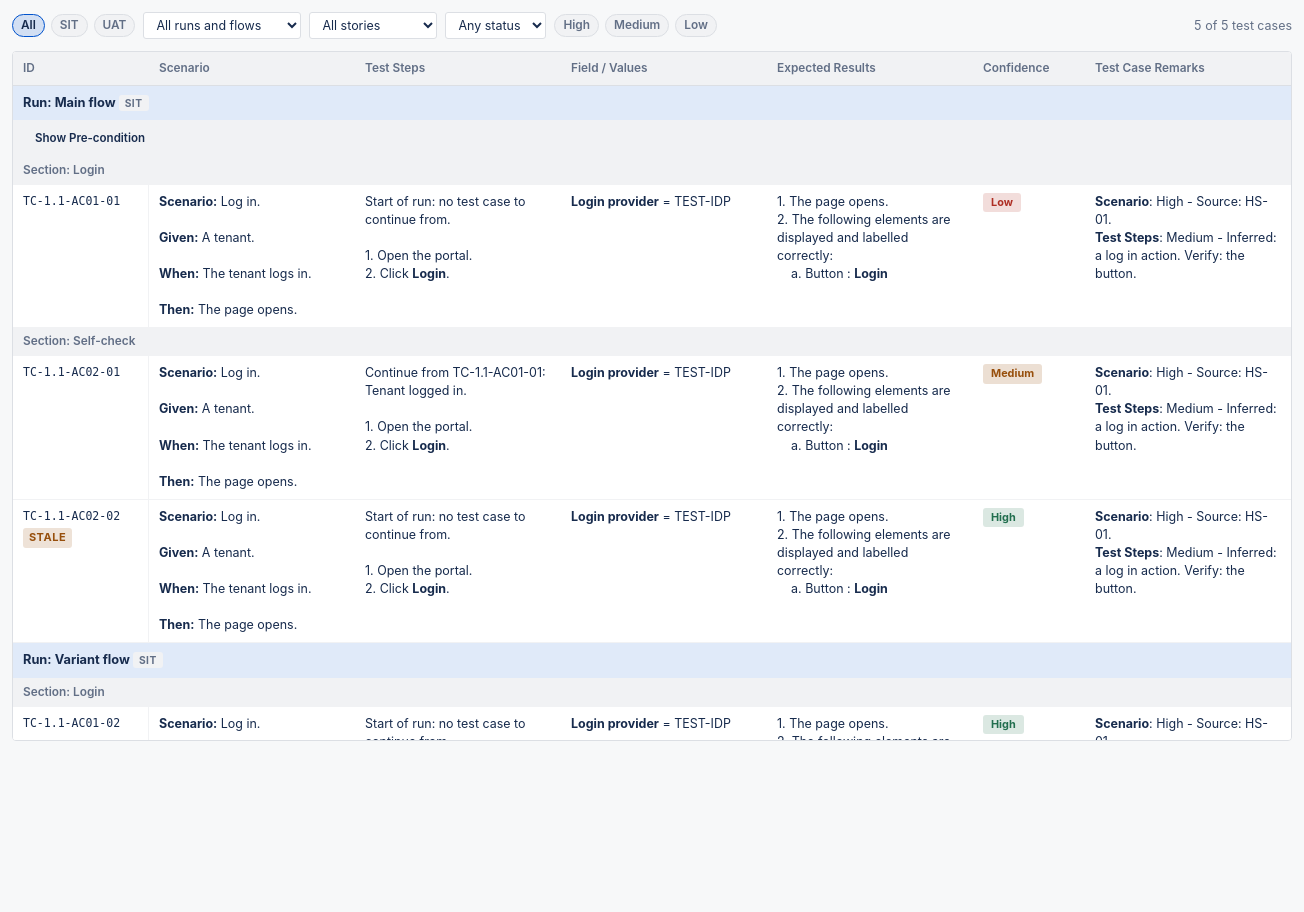
TestCaseGrid supplies the panel link › stays inert when no workbook holds the test case
The image size is (1304, 912).
What coordinates should you click on to do the following:
click the row that starts with "TC-1.1-AC02-01"
I would click on:
 (652, 428)
Its box is [13, 356, 1291, 499].
(page scrolled)
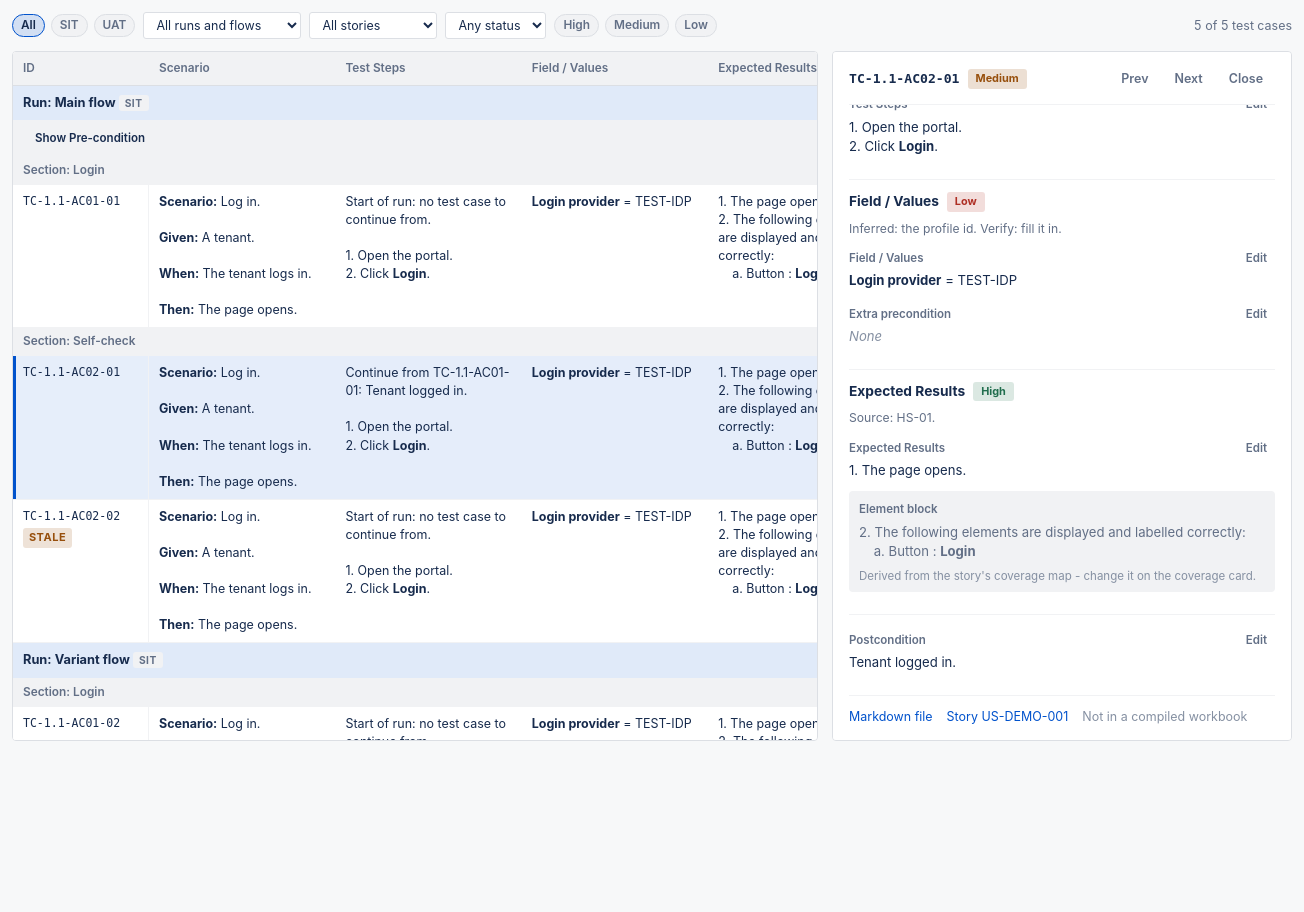
Expected: the text "Not in a compiled workbook" is shown, [1082, 708, 1247, 726]
